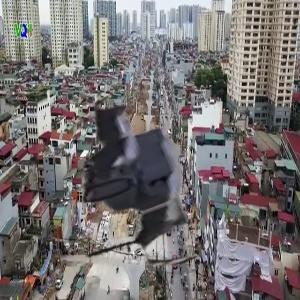drone: (44, 75, 247, 278)
